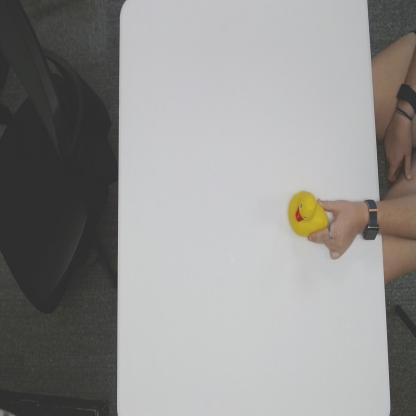Duck: (287, 189, 330, 240)
Hand: (308, 199, 361, 262)
